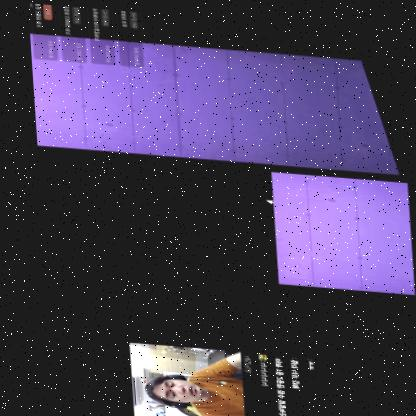streamer: (138, 342, 241, 416)
